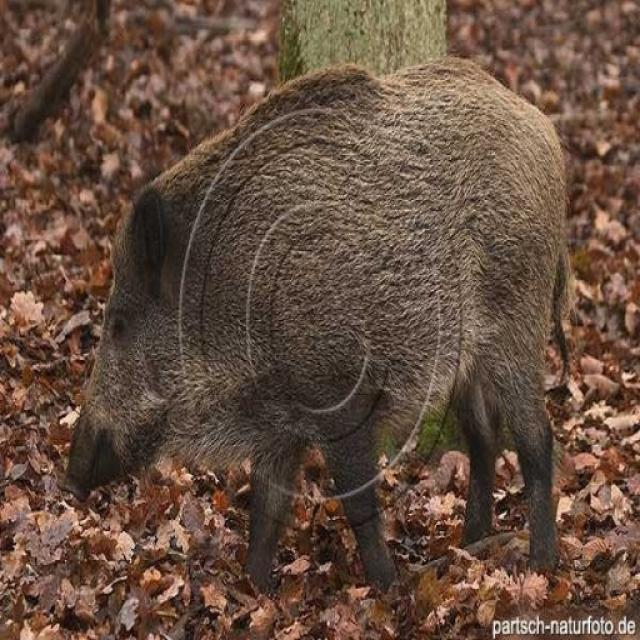pig: (67, 71, 640, 588)
